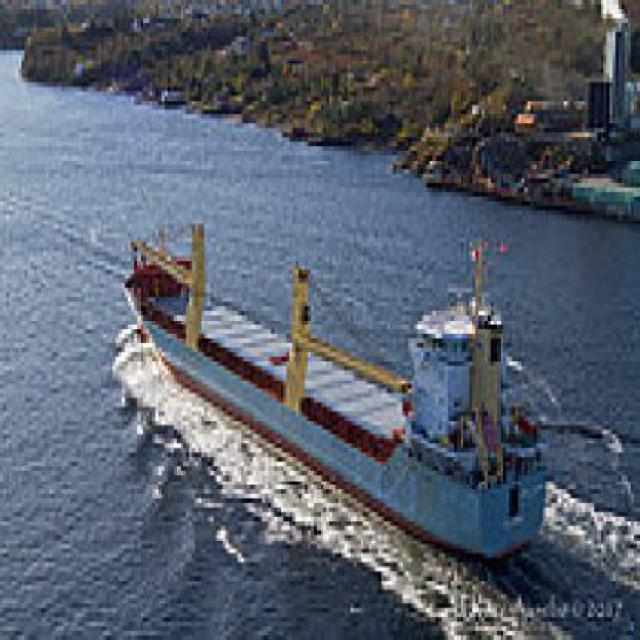container: (111, 179, 559, 582)
